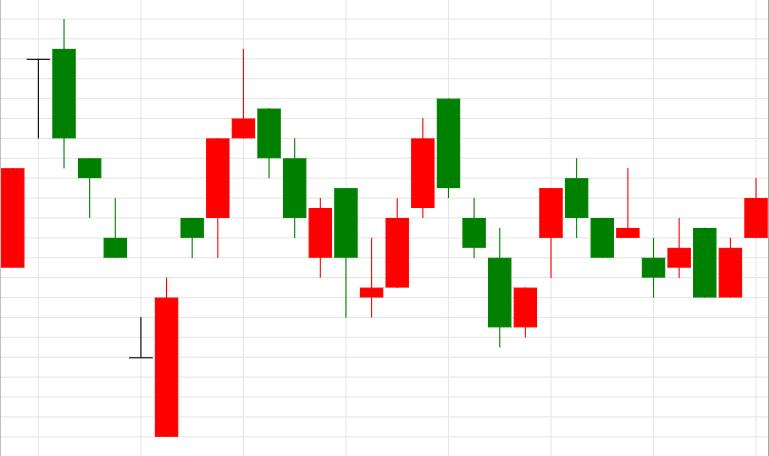morning_star_rise: (258, 109, 409, 318)
shooting_star_fall: (155, 49, 255, 437)
three_black_crows_fall: (360, 97, 511, 348)
